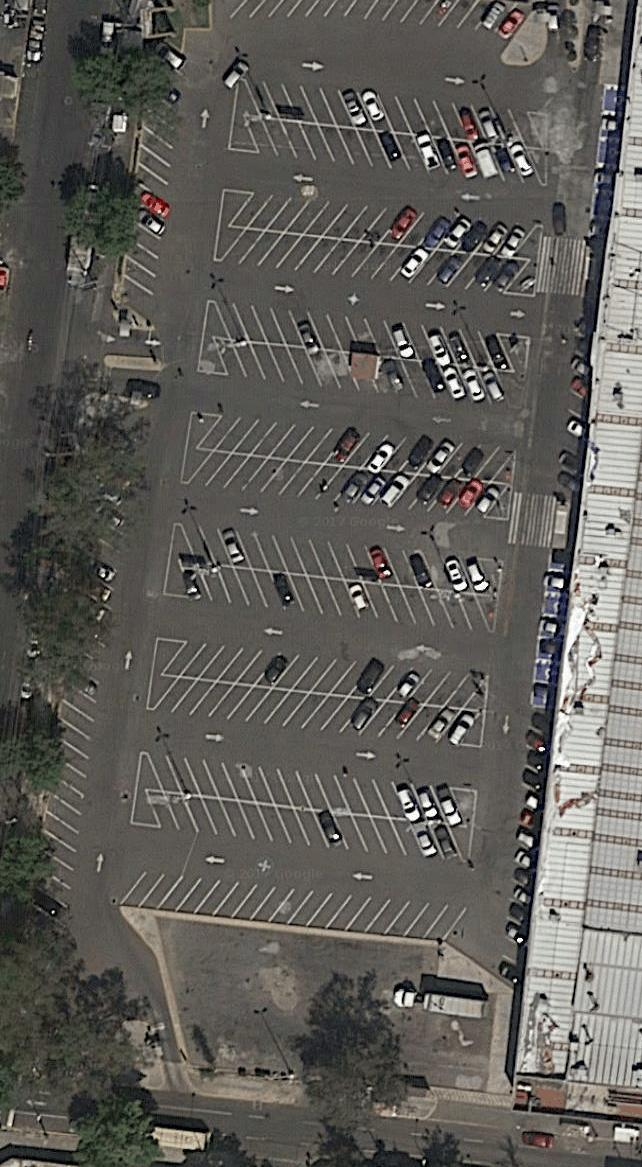parkingspot: (494, 549, 576, 990), (144, 748, 468, 828), (116, 870, 469, 942), (177, 558, 492, 636), (144, 788, 467, 864), (150, 675, 483, 747), (178, 522, 497, 597), (185, 449, 510, 522), (158, 639, 490, 710), (211, 298, 516, 373), (241, 76, 547, 150), (242, 114, 543, 189), (197, 413, 518, 483), (218, 226, 530, 298), (211, 336, 513, 408), (228, 190, 539, 258), (227, 0, 539, 45), (36, 697, 96, 872), (124, 126, 174, 299), (555, 311, 597, 496), (588, 82, 629, 220), (152, 39, 190, 77)
